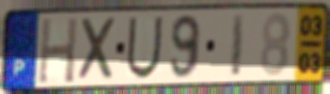8: (258, 10, 294, 79)
9: (169, 13, 203, 81)
H: (36, 16, 80, 86)
I: (228, 12, 247, 80)
U: (124, 15, 165, 81)
X: (78, 15, 119, 84)
